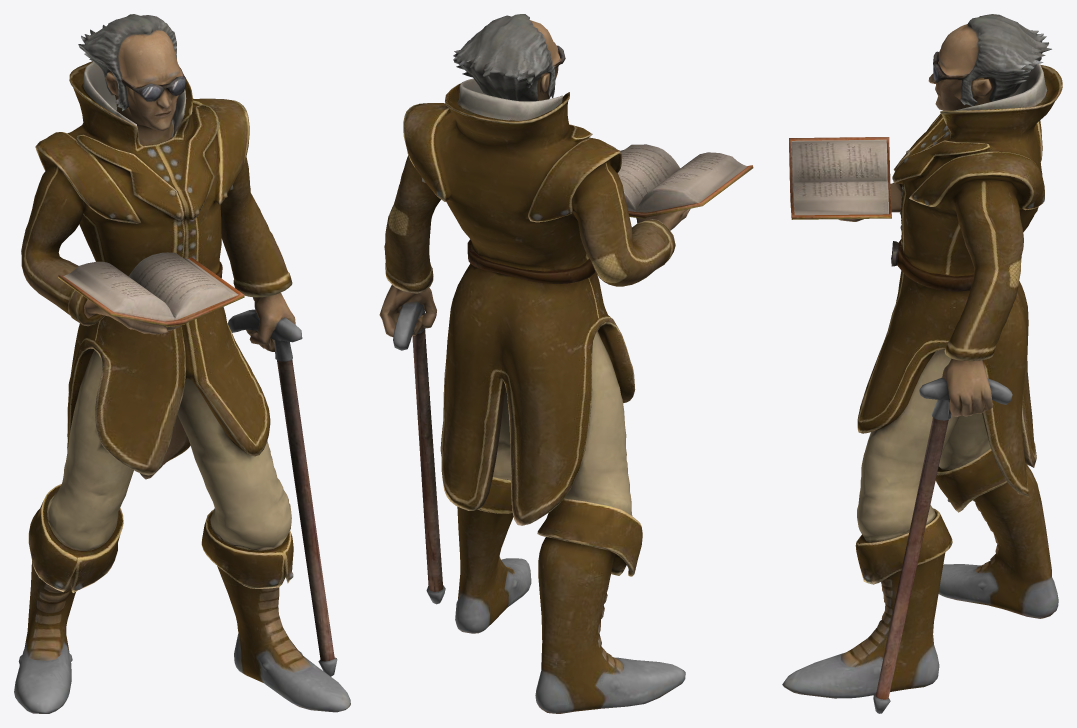
The model's file is MZ4250 - Van Richten.glb.
3 renders of one model, left to right at view 1: azimuth 30°, elevation 25°; view 2: azimuth 150°, elevation 25°; view 3: azimuth 270°, elevation 25°, orthographic. The views are drawn at different scales.
Visible parts, largest first — view 1: VanRichten; view 2: VanRichten; view 3: VanRichten.
Part boxes in pixels (x1,y1,x2,y2): VanRichten: [14, 14, 350, 713]; VanRichten: [379, 14, 753, 713]; VanRichten: [782, 14, 1062, 713].
Size of the model in its own units: 0.4973 by 1.1 by 0.4427.
Materials: 1 (1 with a texture image).
